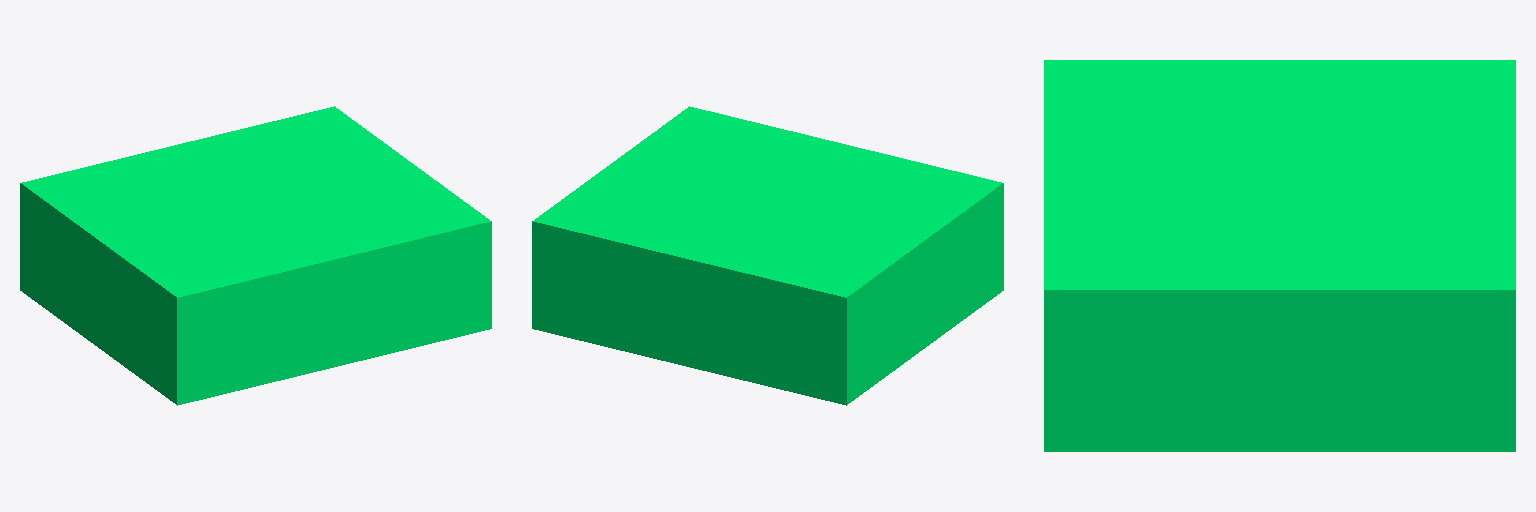
The robot description file, URDF, robot "cube":
<?xml version="1.0"?>
 <robot name="cube">
   <material name="coral">
     <color rgba="1 0.498 0.3137 1"/>
   </material>
   <material name="light_green">
     <color rgba="0 1 0.498 1"/>
   </material>
   <link name="base_link">
     <visual>
       <geometry>
         <box size="0.0851 0.0737 0.0279"/>
       </geometry>
       <material name="light_green"/>
     </visual>
     <inertial>
       <mass value="0"/>
       <inertia ixx="1.0" ixy="0.0" ixz="0.0" iyy="1.0" iyz="0.0" izz="1.0"/>
     </inertial>
   </link>
 </robot>

--- Render facts (derived) ---
3 views of the same robot in one strip: view 1: azimuth 30°, elevation 25°; view 2: azimuth 150°, elevation 25°; view 3: azimuth 270°, elevation 25° (orthographic).
Robot: cube — 1 links, 0 joints (none); root link base_link; default pose: all joints at 0.
Links seen in each view (by area): view 1: base_link; view 2: base_link; view 3: base_link.
Link boxes in pixels (x1,y1,x2,y2): base_link: (20,106,491,405); base_link: (532,106,1003,405); base_link: (1044,60,1515,451).
Size in the robot's own frame: 0.0851 by 0.0737 by 0.0279 metres.
Geometry: primitives only (box / cylinder / sphere), no mesh files.